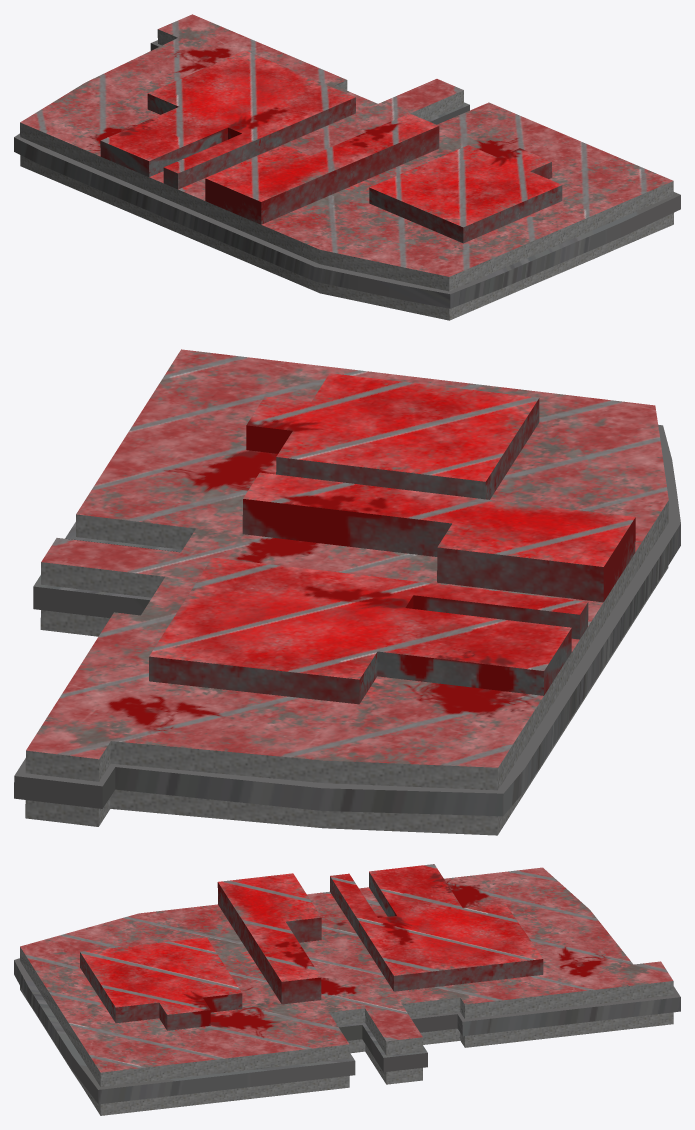
File: Escuela.fbx
3 renders of one model, top to bottom at view 1: azimuth 30°, elevation 25°; view 2: azimuth 150°, elevation 25°; view 3: azimuth 270°, elevation 25°, orthographic. The views are drawn at different scales.
Parts seen in each view (by area): view 1: Edificio8; view 2: Edificio8; view 3: Edificio8.
Part boxes in pixels (left/top/right/bottom): Edificio8: left=14, top=14, right=680, bottom=320; Edificio8: left=14, top=349, right=680, bottom=835; Edificio8: left=14, top=864, right=680, bottom=1115.
Bounding box in the file's own units: 12320 × 1815 × 16414.
